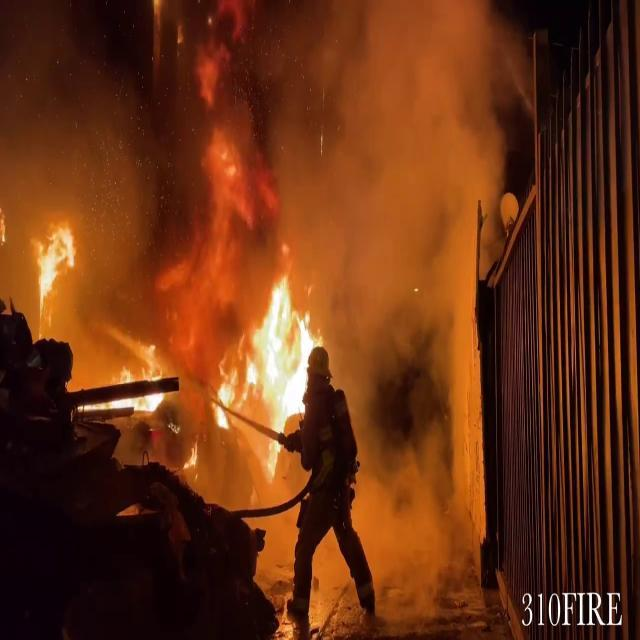Fire: (211, 266, 322, 450), (28, 218, 79, 300), (102, 366, 166, 418)
Smoke: (183, 2, 487, 598), (0, 16, 170, 360)
